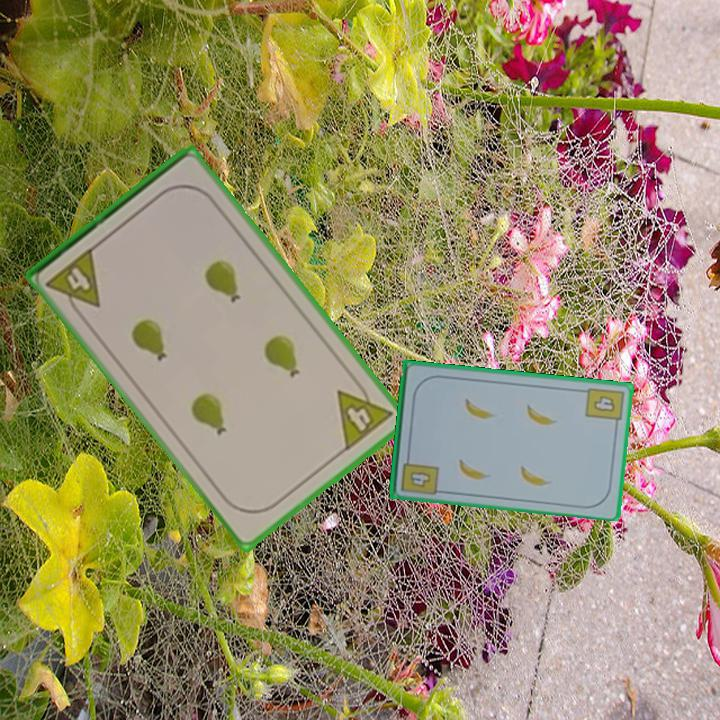4b: (582, 383, 626, 430), (397, 450, 441, 495)
4p: (333, 374, 396, 454), (43, 243, 104, 321)
